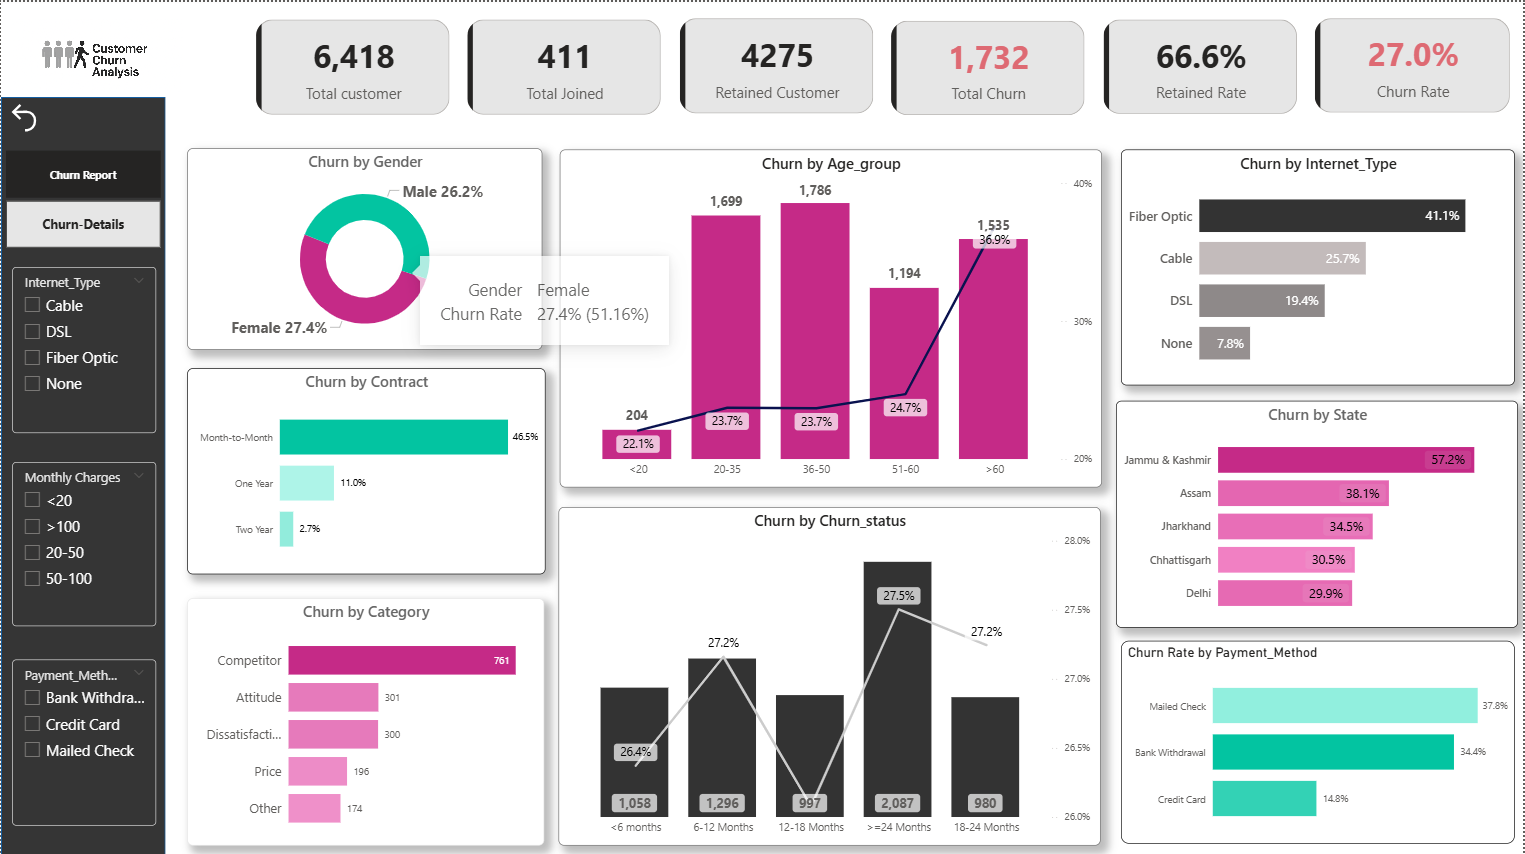

What the dashboard file says about the page in this screenshot:
{"tool":"powerbi","page":{"name":" Churn Report","canvas":[1920,1080],"ordinal":0},"visuals":[{"type":"donutChart","title":" Churn by Gender","fields":{"Category":["prod_churn.Gender"],"Y":["_measures.Churn Rate"]},"box":[235.5,184.9,448.3,254.7],"z":0},{"type":"barChart","title":"Churn by Contract","fields":{"Category":["prod_churn.Contract"],"Y":["_measures.Churn Rate"]},"box":[235.5,462.2,451.7,259.9],"z":1000},{"type":"lineStackedColumnComboChart","title":" Churn  by Age_group","fields":{"Y2":["_measures.Churn Rate"],"Category":["Age_mapping.Age_group"],"Y":["_measures.Total customer"]},"box":[704.8,185.4,683.8,426.7],"z":2000},{"type":"barChart","title":"Churn  by State","fields":{"Category":["prod_churn.State"],"Y":["_measures.Churn Rate"]},"box":[1407.6,502.3,507.6,286],"z":3000},{"type":"barChart","title":"Churn  by Internet_Type","fields":{"Category":["prod_churn.Internet_Type"],"Y":["_measures.Churn Rate"]},"box":[1413.2,185.4,496.7,297.3],"z":4000},{"type":"barChart","title":"Churn by Category","fields":{"Category":["prod_churn.Churn_Category"],"Y":["_measures.Total Churn"]},"box":[235.5,751.7,450,312.2],"z":5000},{"type":"shape","box":[0,120.3,207.6,959.3],"z":6000},{"type":"slicer","fields":{"Values":["prod_churn.Internet_Type"]},"box":[14,334.9,181.4,209.3],"z":7000},{"type":"cardVisual","fields":{"Data":["_measures.Total customer"]},"box":[317.4,17.4,254.7,130.8],"z":8000,"group":"g1"},{"type":"slicer","fields":{"Values":["prod_churn.Monthly_charge_range"]},"box":[14,580.8,181.4,207.6],"z":8000},{"type":"slicer","fields":{"Values":["prod_churn.Payment_Method"]},"box":[14,830.2,181.4,209.3],"z":9000},{"type":"cardVisual","fields":{"Data":["_measures.Total Joined"]},"box":[584.6,17.4,254.7,130.8],"z":10000,"group":"g1"},{"type":"clusteredBarChart","fields":{"Category":["prod_churn.Payment_Method"],"Y":["_measures.Churn Rate"]},"box":[1412.8,805.8,497.1,256.4],"z":10000},{"type":"actionButton","box":[6.3,123,63.1,45.7],"z":11000},{"type":"image","box":[7,17.4,228.5,102.9],"z":12000},{"type":"cardVisual","fields":{"Data":["_measures.Total Churn"]},"box":[1119,19.2,254.7,129.1],"z":12000,"group":"g1"},{"type":"pageNavigator","box":[7,188.4,195.3,123.8],"z":13000},{"type":"group","id":"g1","title":"Group 1","box":[317.4,15.7,1592.4,132.6],"z":14000},{"type":"cardVisual","fields":{"Data":["_measures.Churn Rate"]},"box":[1653.5,15.7,256.4,129.1],"z":15000,"group":"g1"},{"type":"lineStackedColumnComboChart","title":" Churn  by Churn_status","fields":{"Category":["mapping_tenure.Tenure_status"],"Y":["_measures.Total customer"],"Y2":["_measures.Churn Rate"]},"box":[702.9,636.6,683.7,427.3],"z":15000},{"type":"cardVisual","fields":{"Data":["_measures.Retained Rate"]},"box":[1386.2,17.4,254.7,129.1],"z":22000,"group":"g1"},{"type":"cardVisual","fields":{"Data":["_measures.Retained Customer"]},"box":[851.8,15.7,254.7,130.8],"z":23000,"group":"g1"}]}

Visuals, with their boxes on the page's 1920x1080 design canvas (x1, y1, x2, y2). These are canvas units, not pixel positions in the 1525x854 screenshot, which may show the page scaled, cropped or inside an application window:
" Churn by Gender" donutChart: box=[236, 185, 684, 440]
"Churn by Contract" barChart: box=[236, 462, 687, 722]
" Churn  by Age_group" lineStackedColumnComboChart: box=[705, 185, 1389, 612]
"Churn  by State" barChart: box=[1408, 502, 1915, 788]
"Churn  by Internet_Type" barChart: box=[1413, 185, 1910, 483]
"Churn by Category" barChart: box=[236, 752, 686, 1064]
shape: box=[0, 120, 208, 1080]
slicer - prod_churn.Internet_Type: box=[14, 335, 195, 544]
cardVisual - _measures.Total customer: box=[317, 17, 572, 148]
slicer - prod_churn.Monthly_charge_range: box=[14, 581, 195, 788]
slicer - prod_churn.Payment_Method: box=[14, 830, 195, 1040]
cardVisual - _measures.Total Joined: box=[585, 17, 839, 148]
clusteredBarChart - prod_churn.Payment_Method x _measures.Churn Rate: box=[1413, 806, 1910, 1062]
actionButton: box=[6, 123, 69, 169]
image: box=[7, 17, 236, 120]
cardVisual - _measures.Total Churn: box=[1119, 19, 1374, 148]
pageNavigator: box=[7, 188, 202, 312]
"Group 1" group: box=[317, 16, 1910, 148]
cardVisual - _measures.Churn Rate: box=[1654, 16, 1910, 145]
" Churn  by Churn_status" lineStackedColumnComboChart: box=[703, 637, 1387, 1064]
cardVisual - _measures.Retained Rate: box=[1386, 17, 1641, 146]
cardVisual - _measures.Retained Customer: box=[852, 16, 1106, 146]
